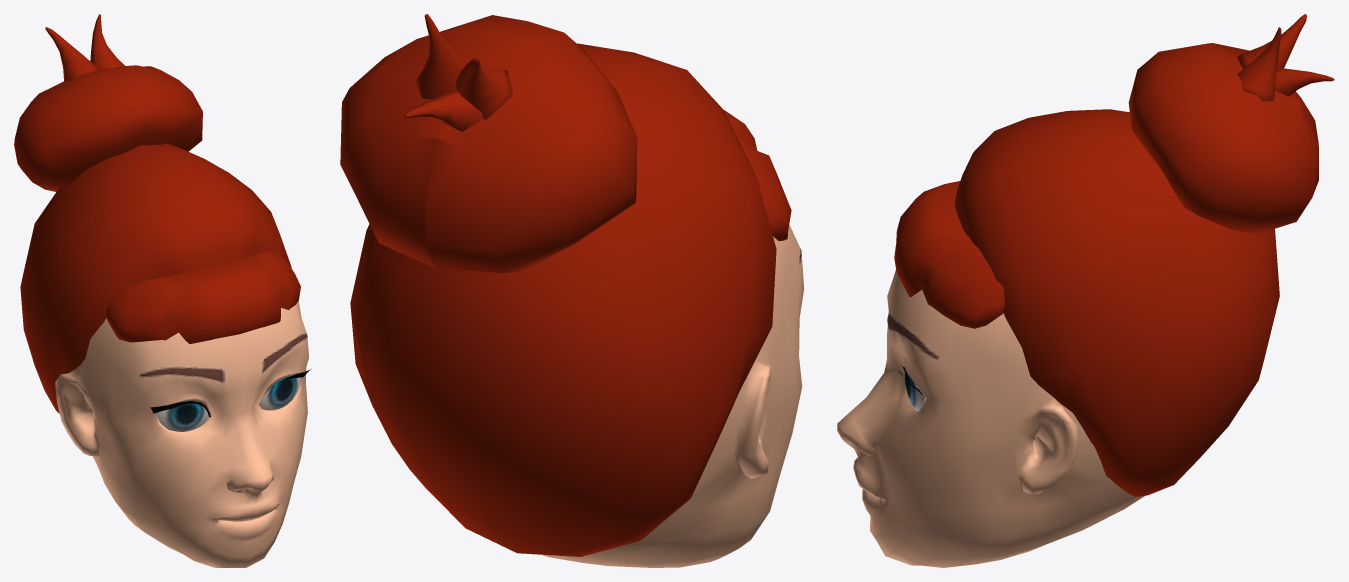
File: head.glb
The picture shows the model from 3 angles, left to right: view 1: azimuth 30°, elevation 25°; view 2: azimuth 150°, elevation 25°; view 3: azimuth 270°, elevation 25°; orthographic projection. The views are drawn at different scales.
Visible parts, largest first — view 1: face_low, hairMid_low, hairBun_low, hairBangs_low, EyeL_low, hairSpike01_low, EyeR_low, hairSpike02_low; view 2: hairMid_low, hairBun_low, face_low, hairBangs_low, hairSpike01_low, hairSpike02_low, hairSpike03_low; view 3: hairMid_low, face_low, hairBun_low, hairBangs_low, hairSpike02_low, hairSpike01_low, hairSpike03_low.
Boxes of the visible parts, x1,y1,x2,y2 form: face_low: [55, 301, 308, 567]; hairMid_low: [20, 143, 291, 413]; hairBun_low: [14, 65, 202, 191]; hairBangs_low: [106, 251, 300, 343]; EyeL_low: [156, 403, 208, 431]; hairSpike01_low: [45, 27, 98, 80]; EyeR_low: [259, 376, 300, 410]; hairSpike02_low: [90, 14, 124, 69]; hairMid_low: [350, 43, 776, 556]; hairBun_low: [340, 15, 637, 272]; face_low: [541, 225, 804, 567]; hairBangs_low: [724, 110, 791, 241]; hairSpike01_low: [455, 58, 512, 119]; hairSpike02_low: [415, 14, 466, 99]; hairSpike03_low: [404, 89, 483, 131]; hairMid_low: [954, 109, 1279, 496]; face_low: [837, 270, 1144, 567]; hairBun_low: [1128, 43, 1318, 234]; hairBangs_low: [894, 181, 1004, 328]; hairSpike02_low: [1237, 27, 1281, 101]; hairSpike01_low: [1237, 14, 1306, 72]; hairSpike03_low: [1275, 68, 1334, 96].
Bounding box in the file's own units: 0.1508 × 0.278 × 0.2325.
Materials: 3 (2 with a texture image).
